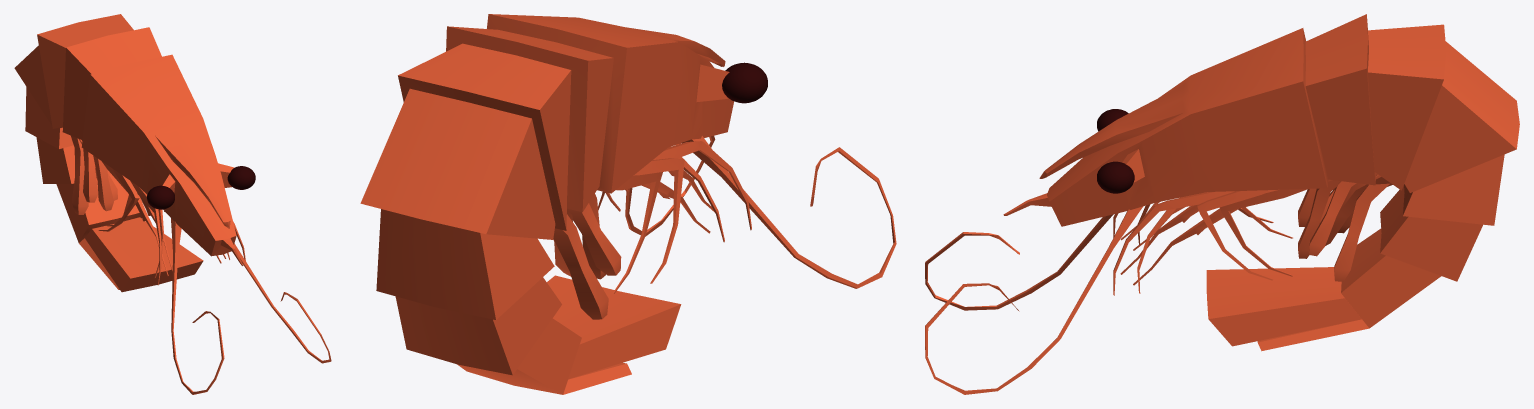
Rendered from Onlyshrimp.fbx.
The picture shows the model from 3 angles, left to right: view 1: azimuth 30°, elevation 25°; view 2: azimuth 150°, elevation 25°; view 3: azimuth 270°, elevation 25°; orthographic projection. The views are drawn at different scales.
Parts seen in each view (by area): view 1: shrimp; view 2: shrimp; view 3: shrimp.
Part boxes in pixels (x1=…): shrimp: x1=14, y1=14, x2=331, y2=394; shrimp: x1=360, y1=14, x2=896, y2=394; shrimp: x1=925, y1=14, x2=1519, y2=394.
Bounding box in the file's own units: 157 × 268 × 462.
